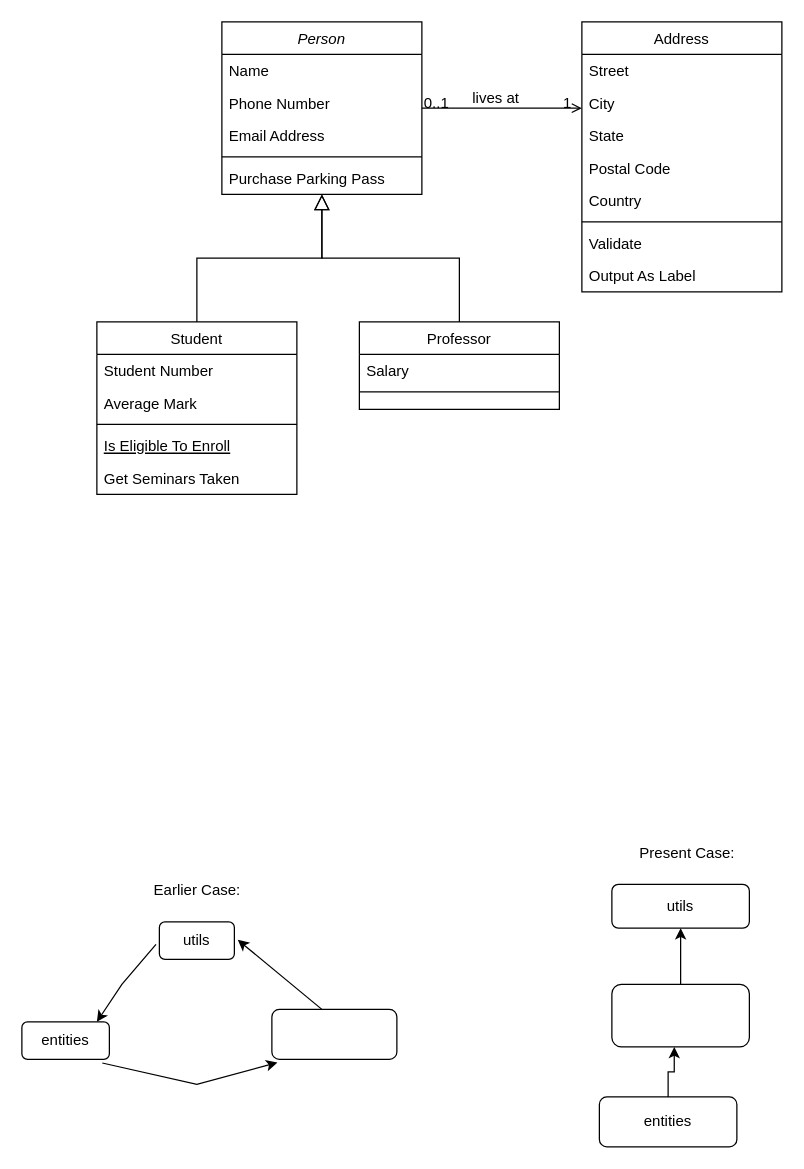
Some shapes in this 804 by 1169 pixel diagram are drawn without their labels. Here are the shapes that lost their labels. From the top down, the centre of each, then its label:
the point at 334,1033: blcategoryOrders
the point at 680,1015: blcategoryOrder
